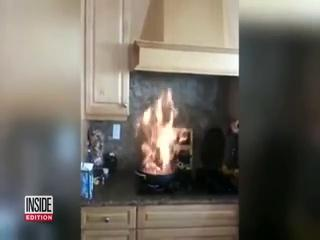Fire: (135, 93, 184, 177)
